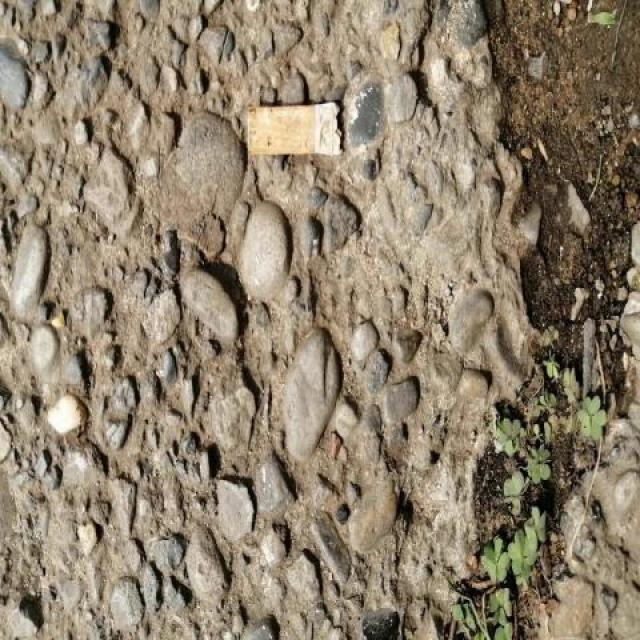non-organic waste: (243, 99, 349, 160)
